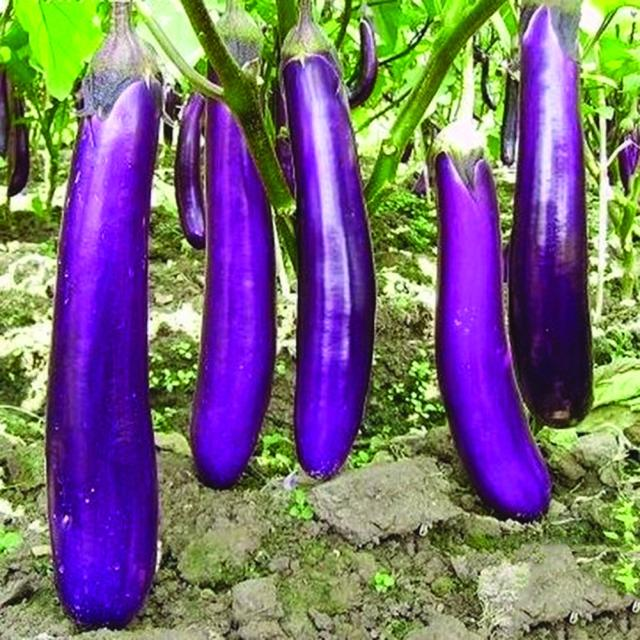Eggplant-r1Ob: (46, 0, 161, 627)
